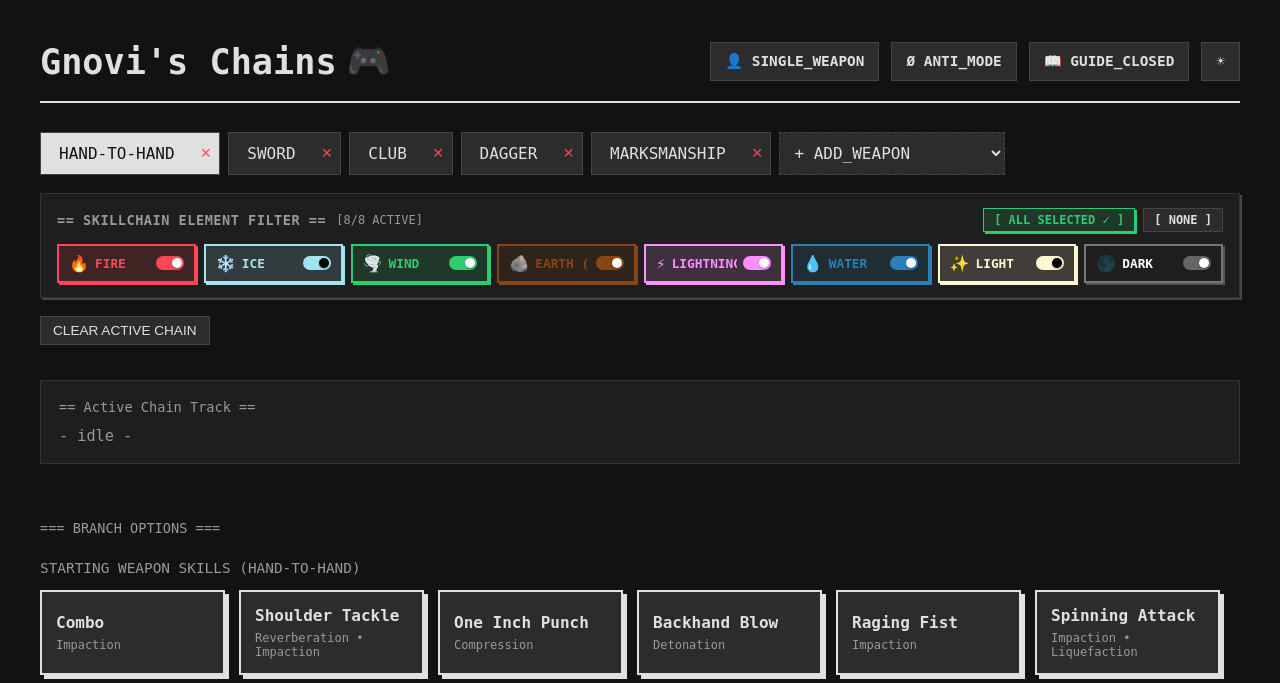
Scenario: Skillchain Element Filter Feature › toggling off an element immediately removes corresponding branch options
This screenshot has width=1280, height=683.
Switch to Marksmanship and select Leaden Salute
Click the button "MARKSMANSHIP" at (668, 154), box [592,134,744,173]
(page scrolled)
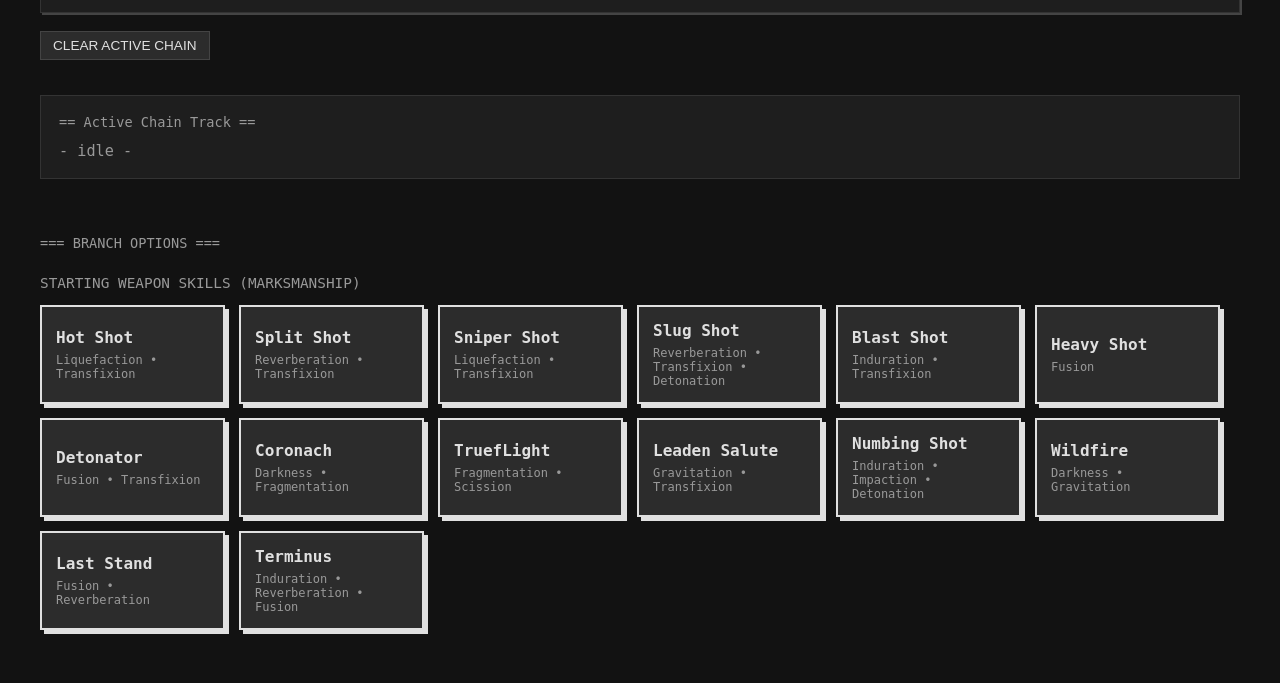
Click the button "Leaden Salute Gravitation • Transfixion" at (730, 468), box [637,418,822,517]
(page scrolled)
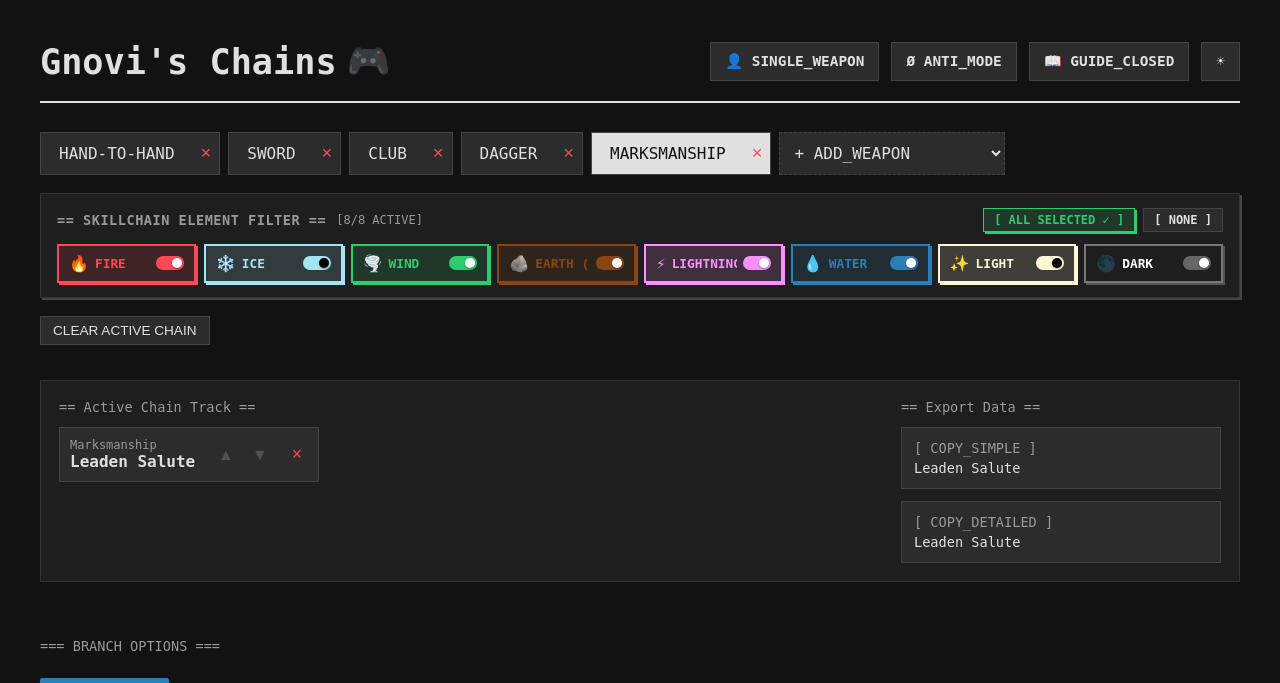
Switch to Club: Black Halo is available under Fragmentation (Wind + Lightning)
Click the button "CLUB" at (388, 154), box [350,134,425,173]
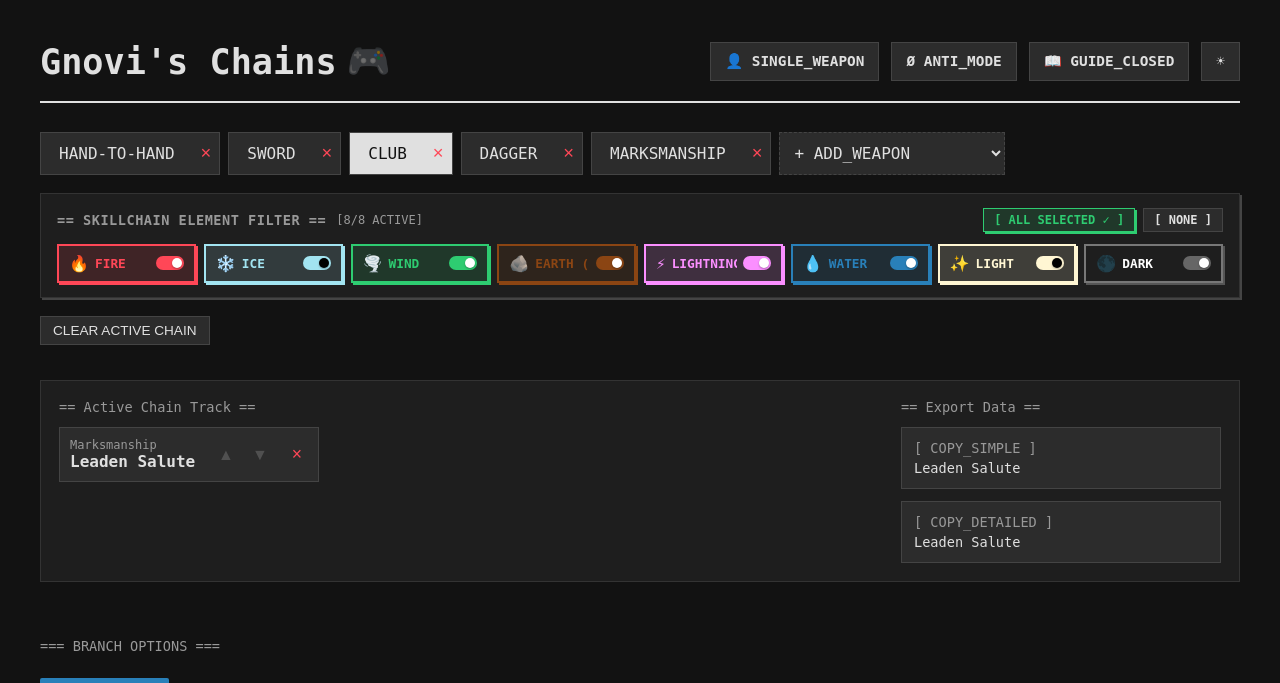
Toggle off Wind and Lightning
Click the button titled "Toggle WIND filter" at (420, 264), box [350,244,489,283]
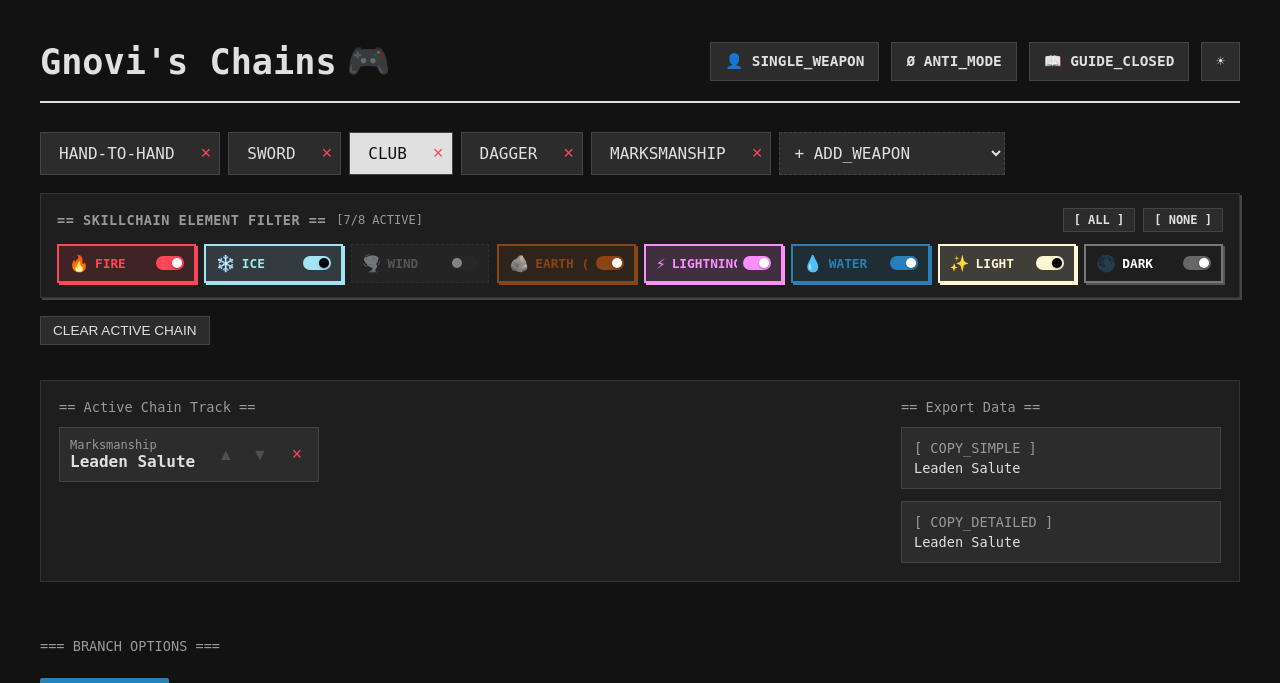
Click the button titled "Toggle LIGHTNING filter" at (713, 264), box [644,244,783,283]
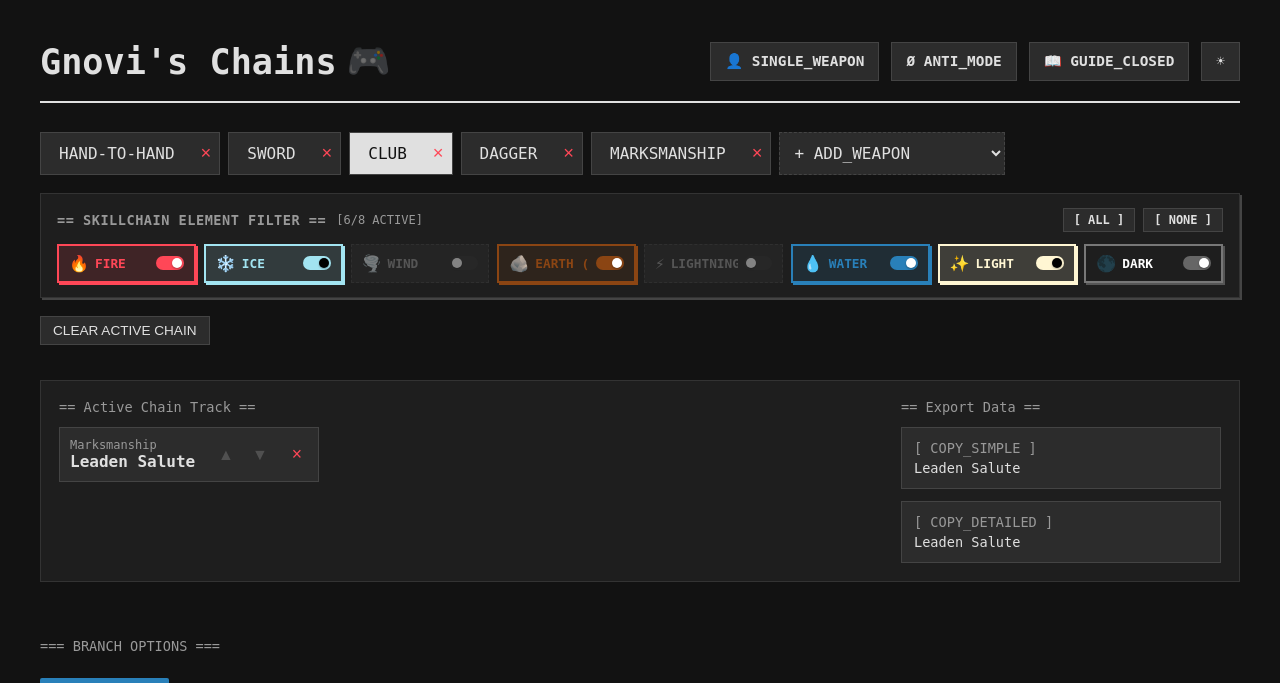
Expected: the button "Black Halo" is not shown
Toggle Lightning back on
Click the button titled "Toggle LIGHTNING filter" at (713, 264), box [644,244,783,283]
(page scrolled)
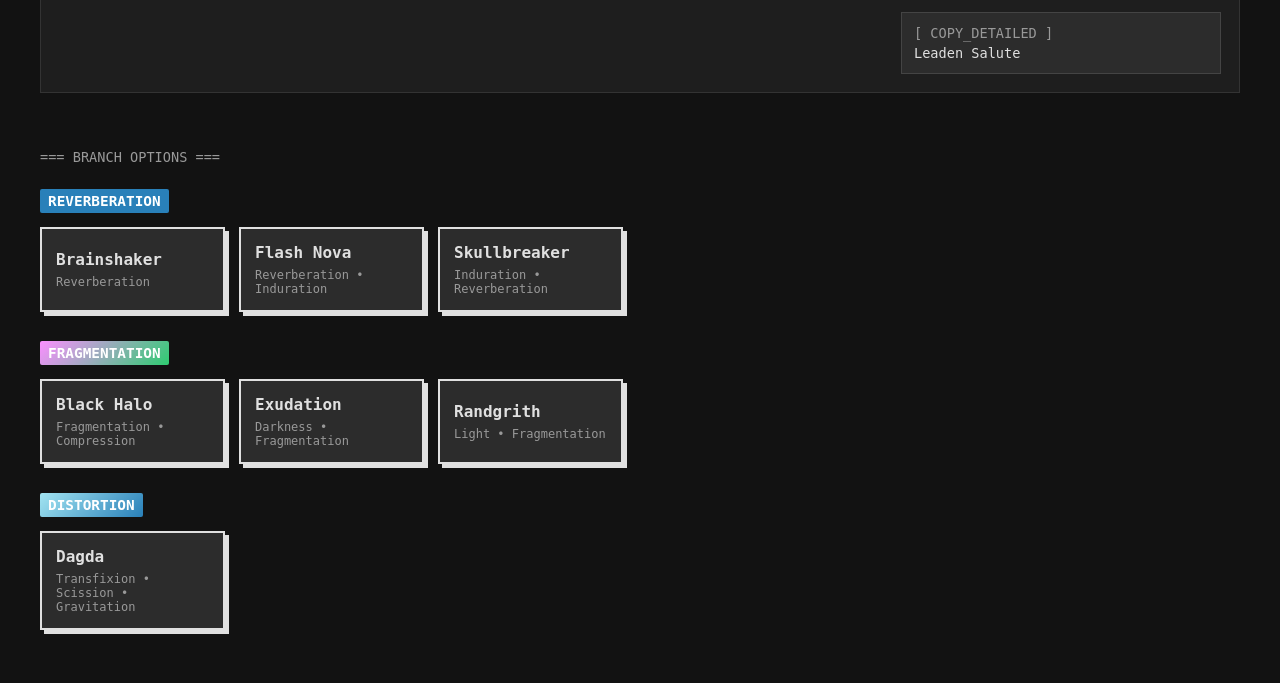
Expected: the button "Black Halo Fragmentation • Compression" is shown, [40,379,225,464]
